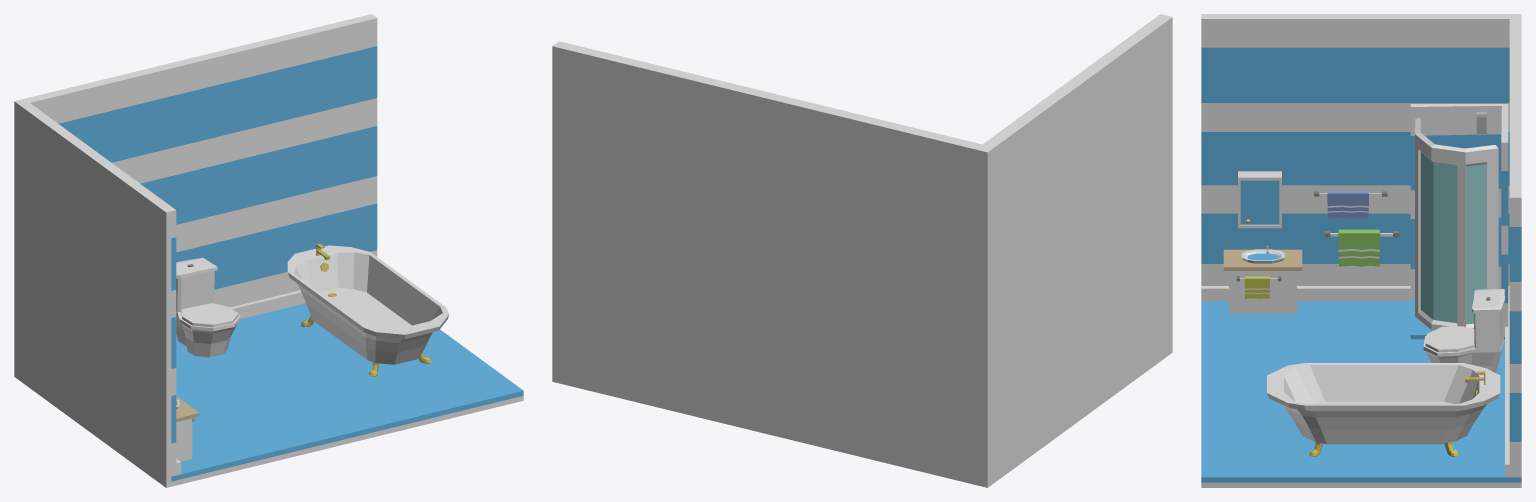
File: Bathroom.fbx
The picture shows the model from 3 angles, left to right: view 1: azimuth 30°, elevation 25°; view 2: azimuth 150°, elevation 25°; view 3: azimuth 270°, elevation 25°; orthographic projection. The views are drawn at different scales.
Parts seen in each view (by area): view 1: Room, Tina, Inodoro, Lavamanos; view 2: Room; view 3: Room, Tina, Shower, Shower Piece, Lavamanos, Inodoro, Mirror, Toalla 1, Toalla 2, Toalla 3.
Part boxes in pixels (<box>): Room: <box>14,14,523,487</box>; Tina: <box>287,243,449,376</box>; Inodoro: <box>176,257,240,357</box>; Lavamanos: <box>176,396,199,461</box>; Room: <box>552,14,1172,487</box>; Room: <box>1201,14,1521,487</box>; Tina: <box>1267,363,1500,456</box>; Shower: <box>1415,118,1498,330</box>; Shower Piece: <box>1410,104,1508,339</box>; Lavamanos: <box>1223,246,1302,313</box>; Inodoro: <box>1423,289,1504,372</box>; Mirror: <box>1238,171,1281,228</box>; Toalla 1: <box>1338,229,1380,266</box>; Toalla 2: <box>1327,191,1368,218</box>; Toalla 3: <box>1244,276,1269,298</box>.
Size of the model in its own units: 290 by 213 by 213.
